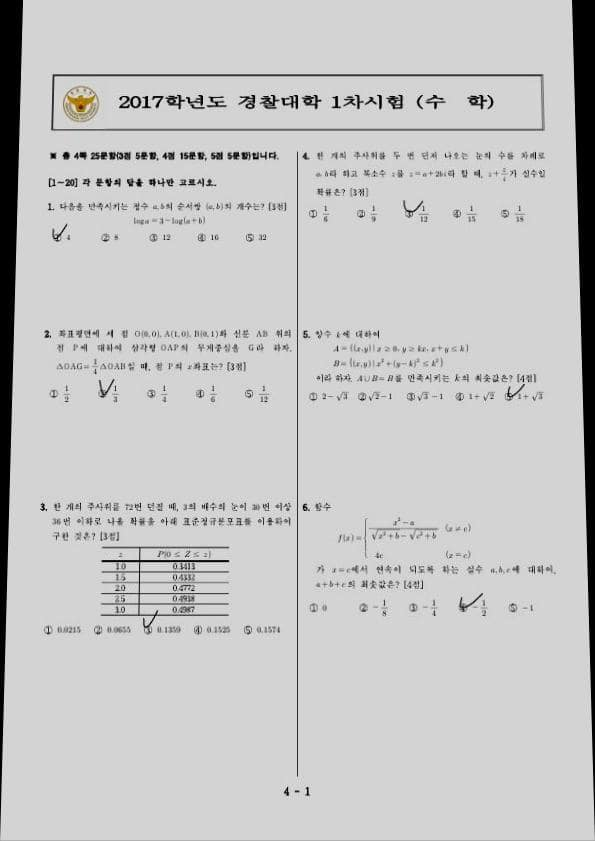question: (26, 489, 294, 647), (295, 494, 564, 628), (34, 322, 296, 413), (298, 322, 553, 415), (298, 143, 556, 234), (36, 196, 293, 258)
